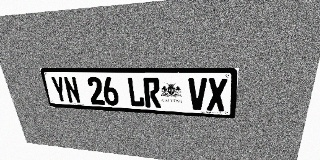2: (86, 77, 105, 105)
6: (101, 77, 119, 106)
L: (127, 77, 145, 107)
N: (63, 76, 81, 104)
R: (143, 77, 161, 108)
V: (188, 78, 207, 110)
X: (207, 78, 227, 111)
Y: (50, 76, 68, 103)
